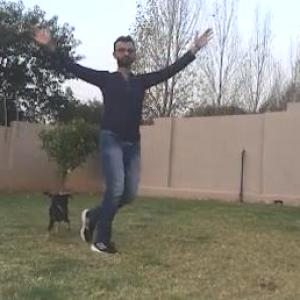takeoff: (24, 28, 188, 255)
